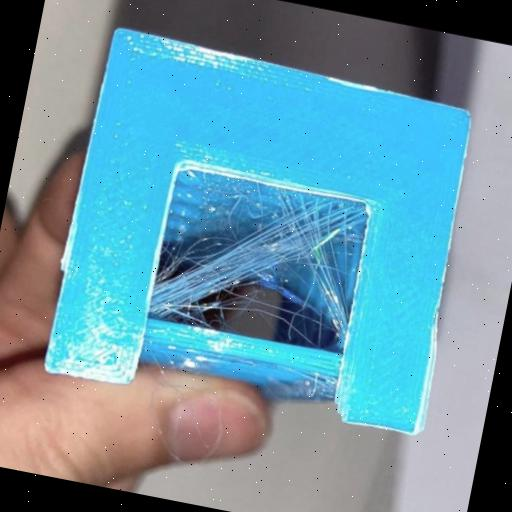stringing: (157, 191, 361, 318), (278, 193, 351, 330)
